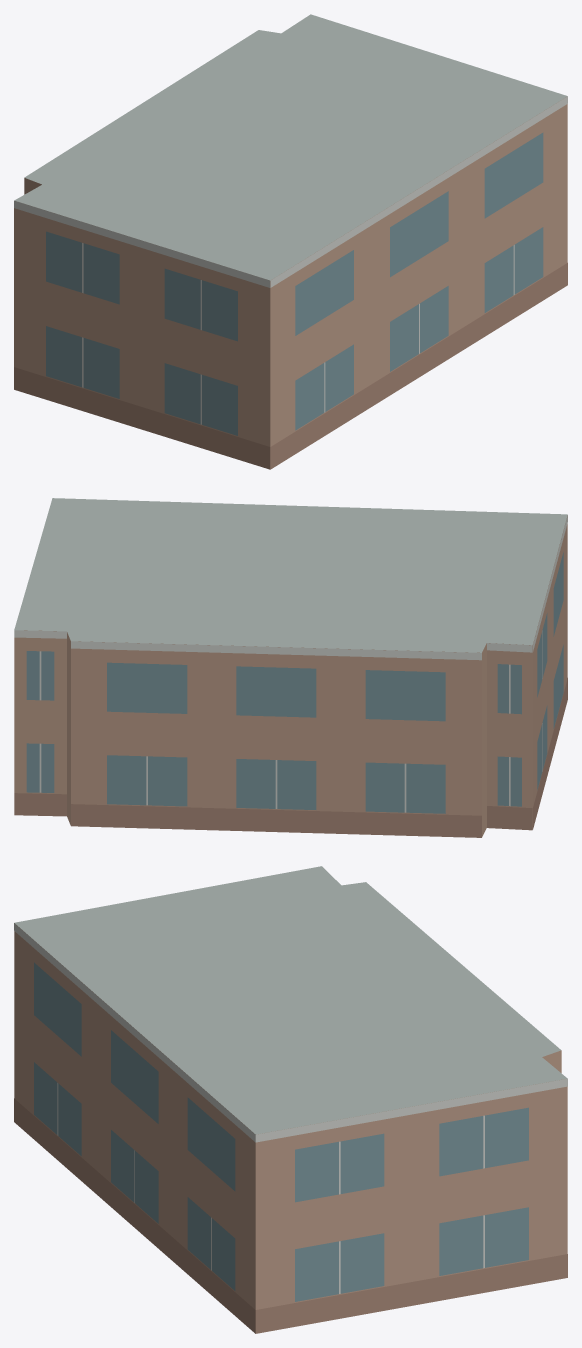
File: survey-upis-32758473.glb
3 renders of one model, top to bottom at view 1: azimuth 30°, elevation 25°; view 2: azimuth 150°, elevation 25°; view 3: azimuth 270°, elevation 25°, orthographic. The views are drawn at different scales.
Parts seen in each view (by area): view 1: survey-upis-32758473.tmp; view 2: survey-upis-32758473.tmp; view 3: survey-upis-32758473.tmp.
Part boxes in pixels (x1,y1,x2,y2): survey-upis-32758473.tmp: [14, 14, 567, 469]; survey-upis-32758473.tmp: [14, 498, 567, 837]; survey-upis-32758473.tmp: [14, 866, 567, 1333].
Size of the model in its own units: 17.64 by 6.1 by 15.37.
